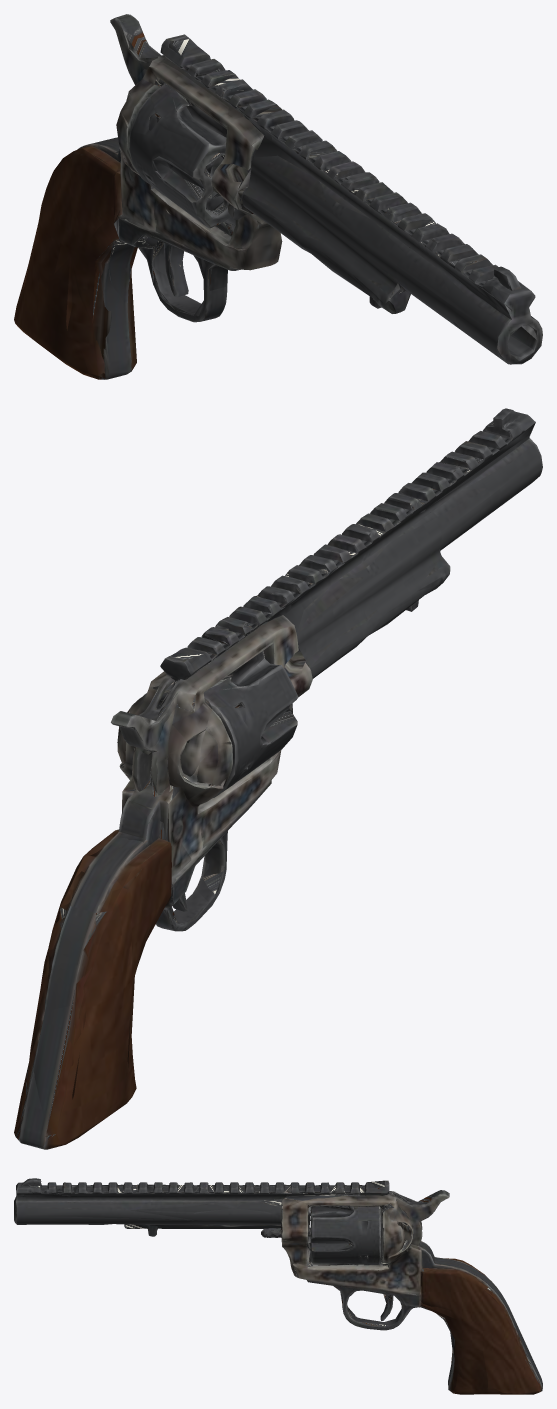
File: western_revolver.glb
3 views of the same model, one above another, from view 1: azimuth 30°, elevation 25°; view 2: azimuth 150°, elevation 25°; view 3: azimuth 270°, elevation 25° (orthographic). The views are drawn at different scales.
Parts seen in each view (by area): view 1: model, mesh_lod; view 2: model, mesh_lod; view 3: model, mesh_lod.
Part boxes in pixels (x1,y1,x2,y2): model: (14,14,542,379); mesh_lod: (19,20,537,379); model: (14,408,542,1149); mesh_lod: (15,413,538,1149); model: (14,1178,542,1394); mesh_lod: (14,1180,541,1394).
Bounding box in the file's own units: 0.0435 × 0.1502 × 0.34.
Materials: 1 (1 with a texture image).
